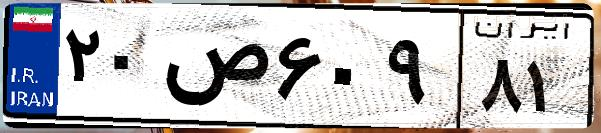0: (330, 28, 385, 110), (110, 28, 158, 98)
1: (525, 38, 570, 115)
2: (57, 26, 110, 100)
6: (270, 28, 330, 110)
8: (475, 38, 525, 113)
9: (385, 28, 445, 110)
ص: (158, 20, 270, 120)
